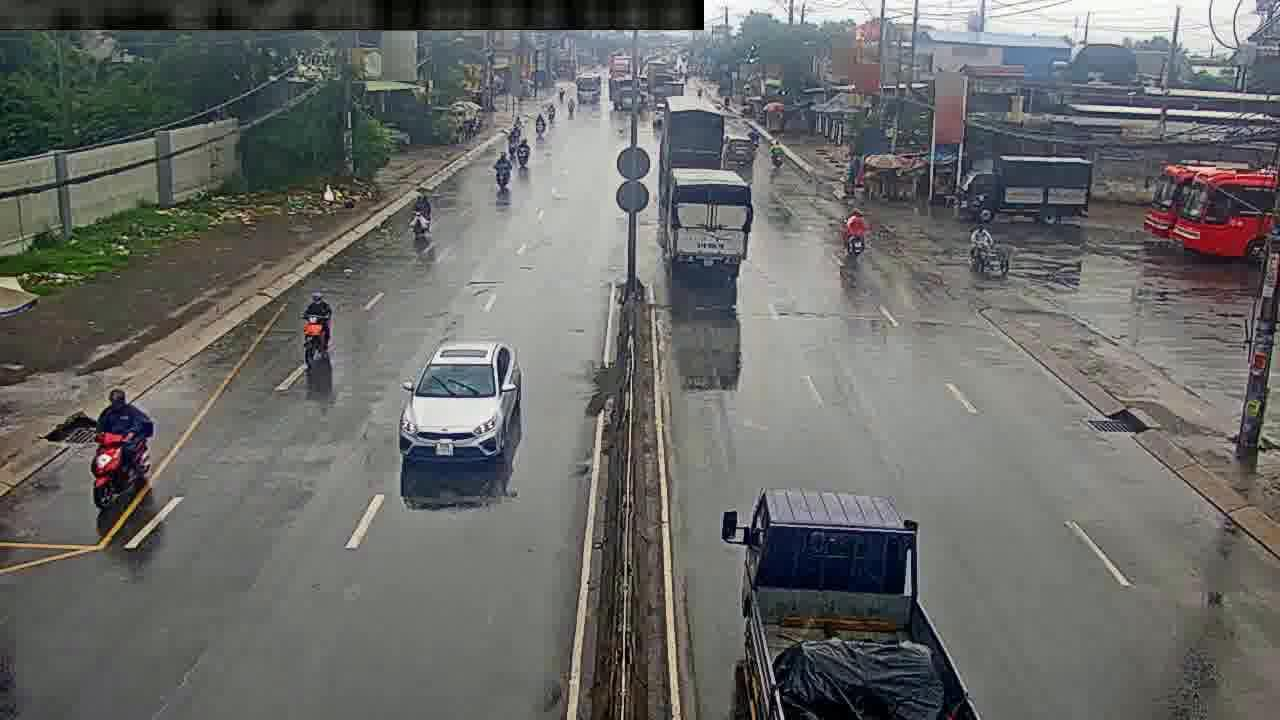8: (721, 486, 981, 720), (667, 161, 744, 262), (668, 110, 719, 176)
container: (397, 341, 524, 468), (725, 137, 757, 161)
motorbike: (87, 388, 148, 516), (298, 279, 336, 369), (843, 204, 868, 262), (411, 187, 433, 243), (767, 136, 785, 174), (494, 149, 510, 191), (517, 139, 529, 165)
